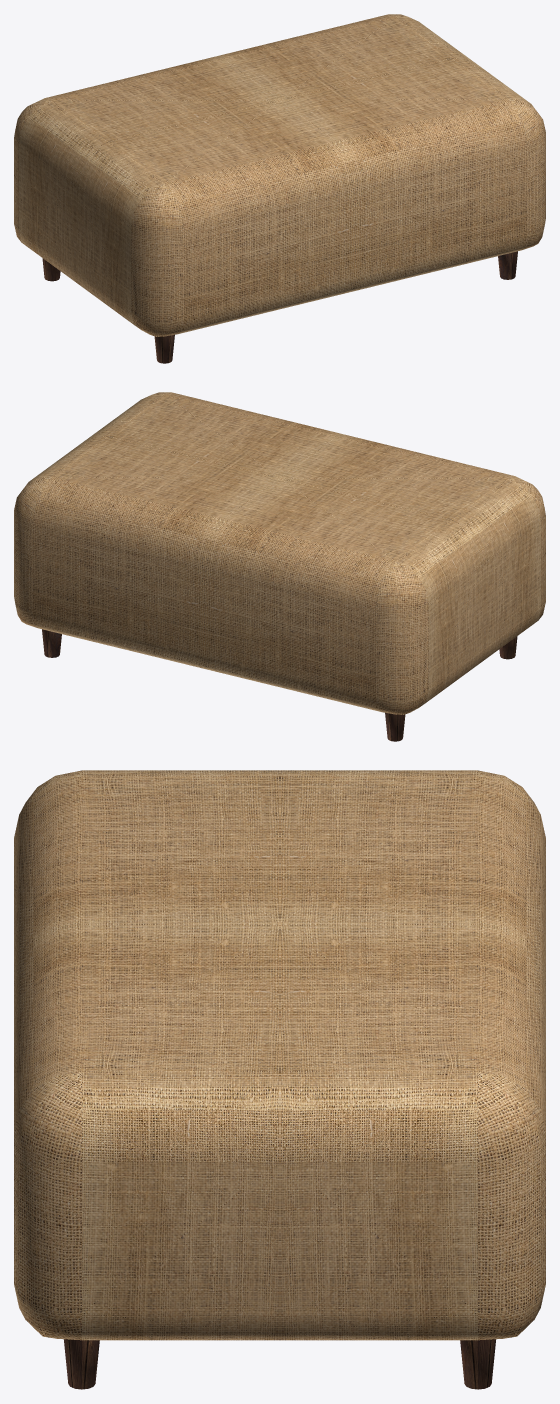
Rendered from Coq_funiture_Stool01.fbx.
3 renders of one model, top to bottom at view 1: azimuth 30°, elevation 25°; view 2: azimuth 150°, elevation 25°; view 3: azimuth 270°, elevation 25°, orthographic. The views are drawn at different scales.
Visible parts, largest first — view 1: stool; view 2: stool; view 3: stool.
Boxes of the visible parts, bbox=[...] form: stool: bbox=[14, 14, 545, 363]; stool: bbox=[14, 392, 545, 741]; stool: bbox=[14, 770, 545, 1389].
Bounding box in the file's own units: 262 × 108 × 167.
